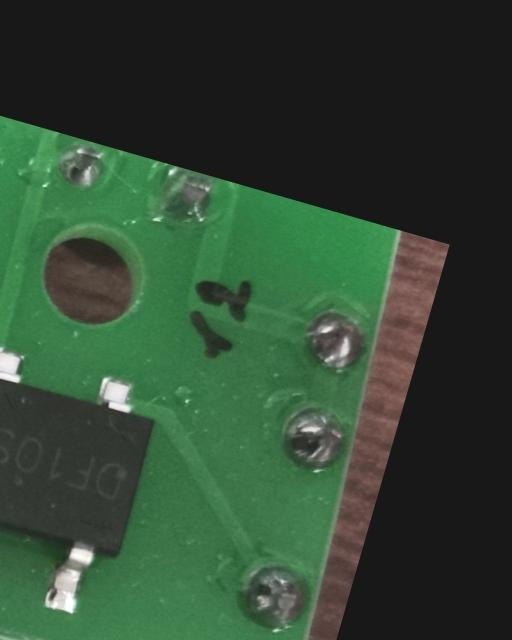ic: (0, 331, 168, 625)
